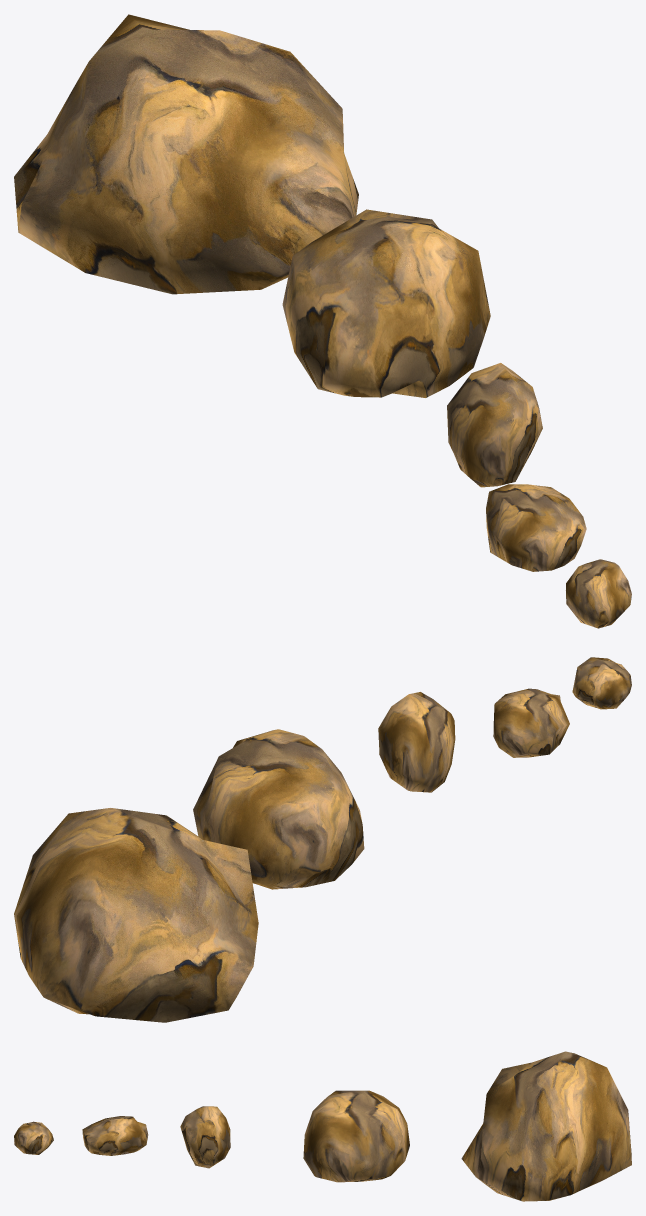
Rendered from rocks.fbx.
3 renders of one model, top to bottom at view 1: azimuth 30°, elevation 25°; view 2: azimuth 150°, elevation 25°; view 3: azimuth 270°, elevation 25°, orthographic. The views are drawn at different scales.
Parts seen in each view (by area): view 1: rock2, rock3, rock4, rock5, rock1; view 2: rock2, rock3, rock4, rock5, rock1; view 3: rock2, rock3, rock4, rock5, rock1.
Part boxes in pixels (<box>): rock2: <box>14,14,358,294</box>; rock3: <box>282,209,490,397</box>; rock4: <box>447,363,542,487</box>; rock5: <box>486,484,586,571</box>; rock1: <box>566,559,631,628</box>; rock2: <box>14,808,258,1022</box>; rock3: <box>193,729,364,889</box>; rock4: <box>378,692,455,792</box>; rock5: <box>493,688,569,757</box>; rock1: <box>572,657,631,709</box>; rock2: <box>461,1051,631,1201</box>; rock3: <box>303,1090,409,1182</box>; rock4: <box>180,1106,230,1168</box>; rock5: <box>82,1116,148,1155</box>; rock1: <box>14,1121,53,1154</box>.
Size of the model in its own units: 337 by 241 by 1127.
Materials: 1 (1 with a texture image).
